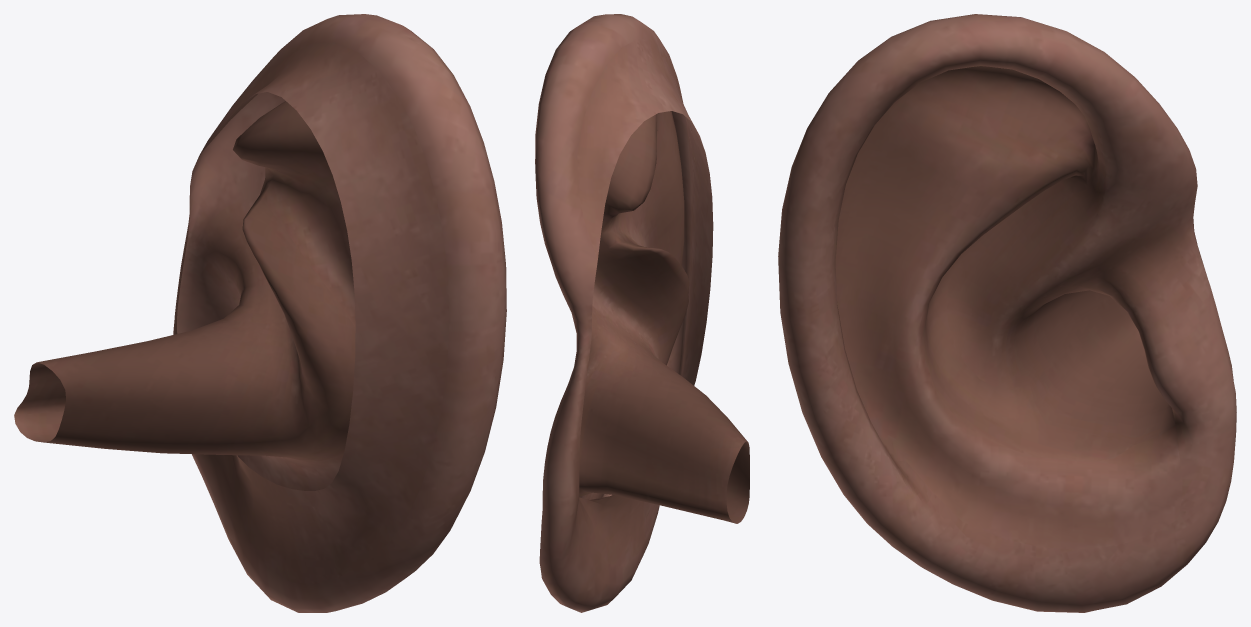
Rendered from PRP_EarModel.glb.
3 views of the same model, side by side, from view 1: azimuth 30°, elevation 25°; view 2: azimuth 150°, elevation 25°; view 3: azimuth 270°, elevation 25° (orthographic). The views are drawn at different scales.
Parts seen in each view (by area): view 1: Ear_LP_LOD0__0; view 2: Ear_LP_LOD0__0; view 3: Ear_LP_LOD0__0.
Part boxes in pixels (left/top/right/bottom): Ear_LP_LOD0__0: left=14, top=14, right=506, bottom=612; Ear_LP_LOD0__0: left=535, top=14, right=749, bottom=612; Ear_LP_LOD0__0: left=778, top=14, right=1236, bottom=612.
Size of the model in its own units: 0.802 by 1.53 by 1.02.
Materials: 1 (1 with a texture image).
